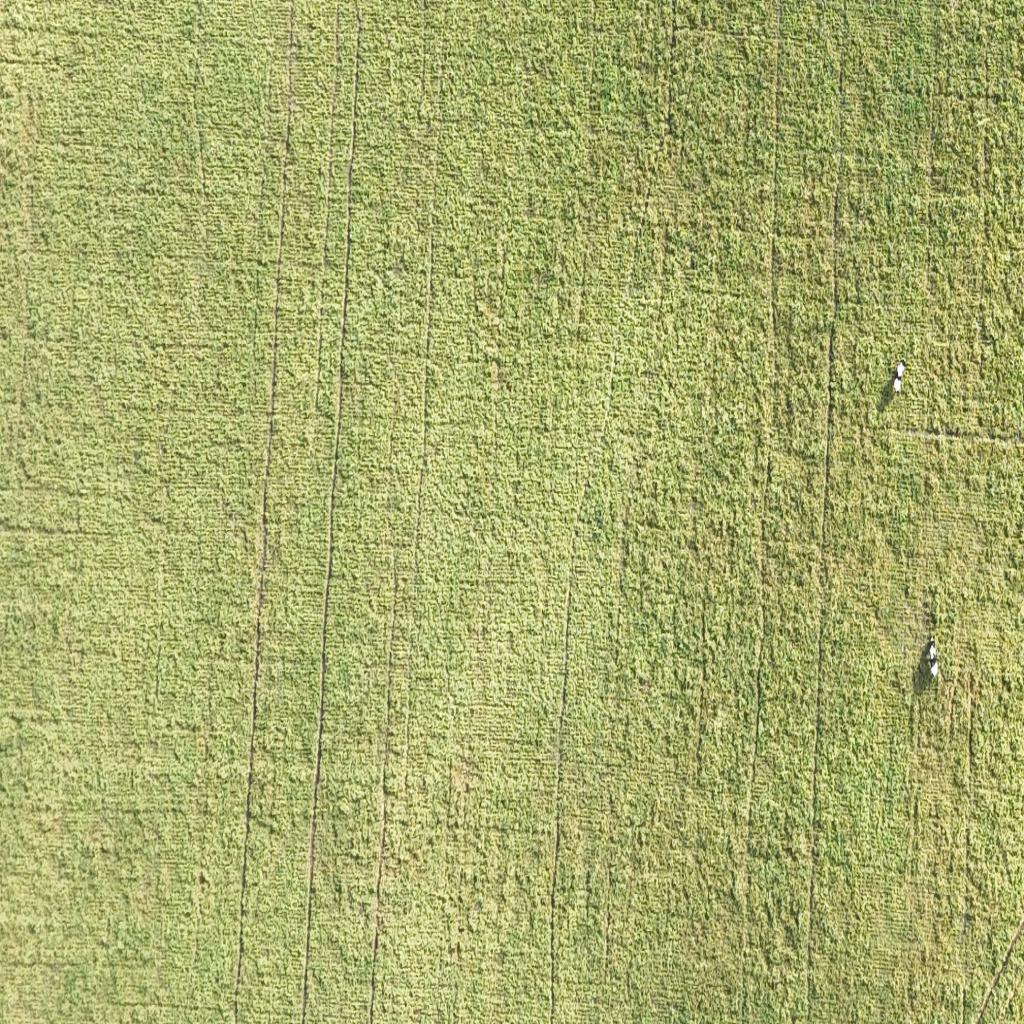cow: (927, 636, 939, 678), (894, 360, 906, 394)
